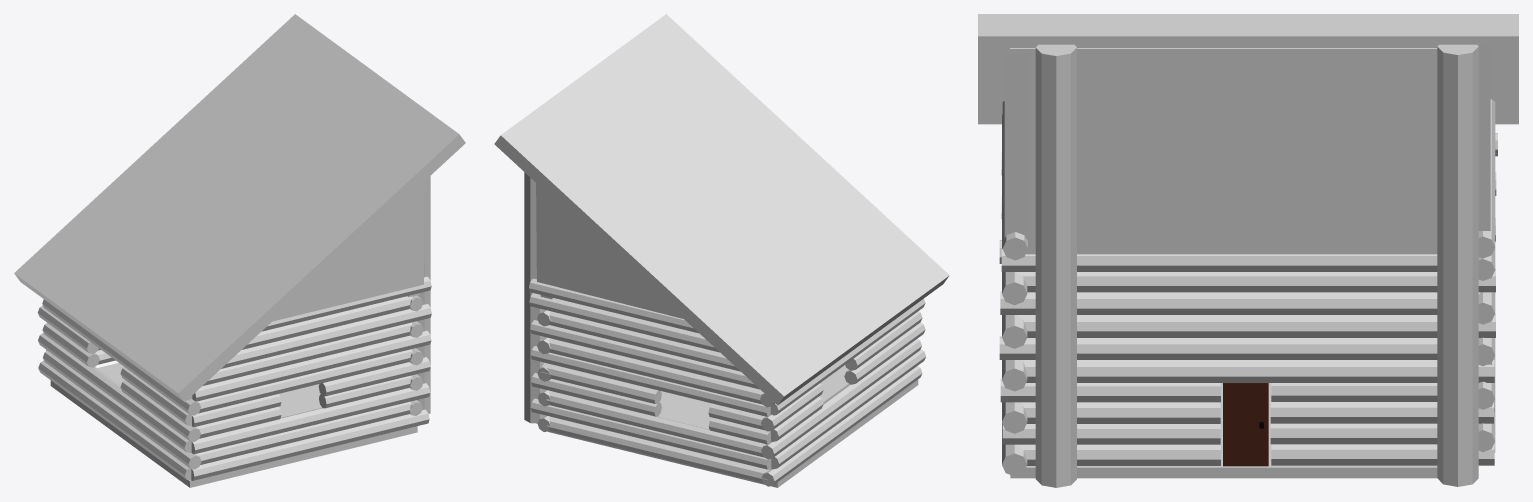
Rendered from CabinandWall.fbx.
3 renders of one model, left to right at view 1: azimuth 30°, elevation 25°; view 2: azimuth 150°, elevation 25°; view 3: azimuth 270°, elevation 25°, orthographic. The views are drawn at different scales.
Parts seen in each view (by area): view 1: Cabin, floor; view 2: Cabin, floor; view 3: Cabin, floor, Door.
Boxes of the visible parts, x1,y1,x2,y2 form: Cabin: [14, 14, 465, 480]; floor: [50, 363, 417, 487]; Cabin: [494, 14, 949, 486]; floor: [548, 365, 918, 487]; Cabin: [978, 14, 1518, 487]; floor: [1010, 383, 1437, 478]; Door: [1223, 383, 1268, 466].
Bounding box in the file's own units: 26.39 × 26.09 × 26.1.
